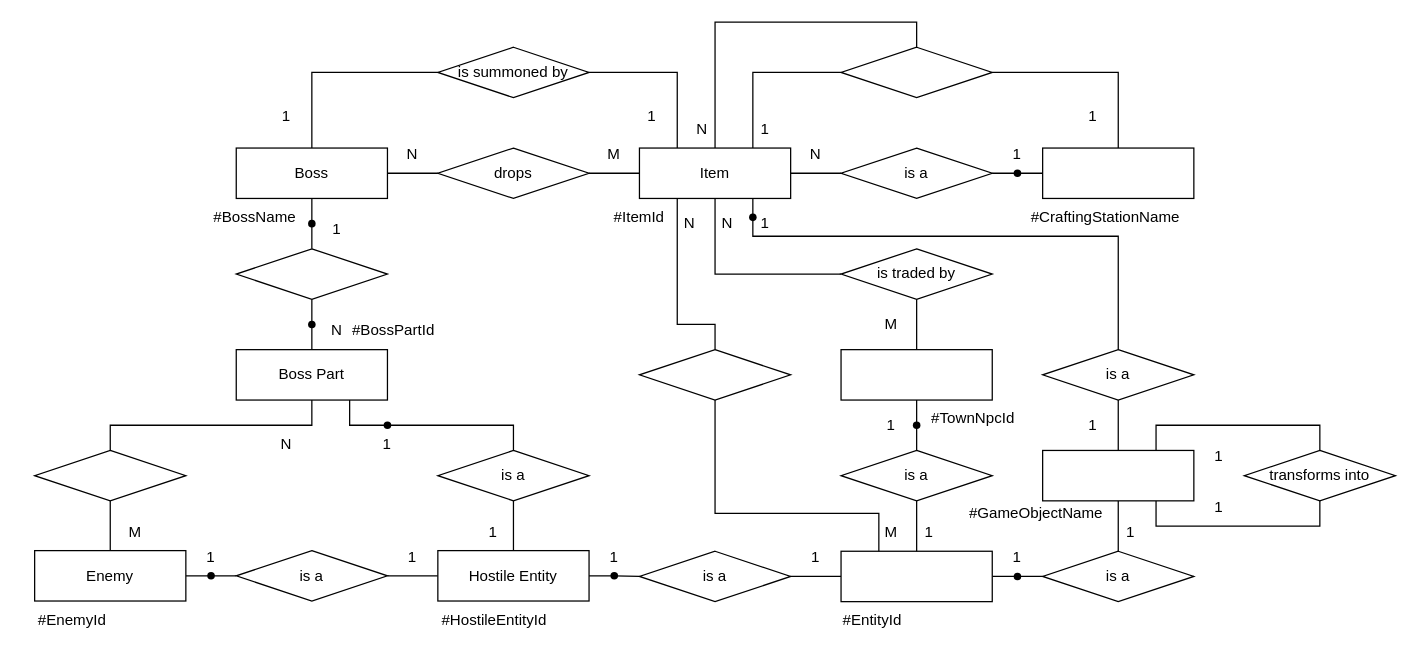
Some shapes in this 1418 by 662 pixel diagram are drawn without their labels. The shapes that lost their labels are listed below. From the top down, each one's box as (x1, y1, x2, y2) in pixels, then its label:
(840, 46, 992, 98): crafting
(1041, 147, 1194, 198): Crafting Station
(235, 248, 387, 299): has
(638, 348, 791, 400): is dropped by
(840, 348, 992, 400): Town NPC
(33, 449, 186, 501): spawns
(1041, 449, 1194, 501): Game Object
(840, 550, 992, 602): Entity
